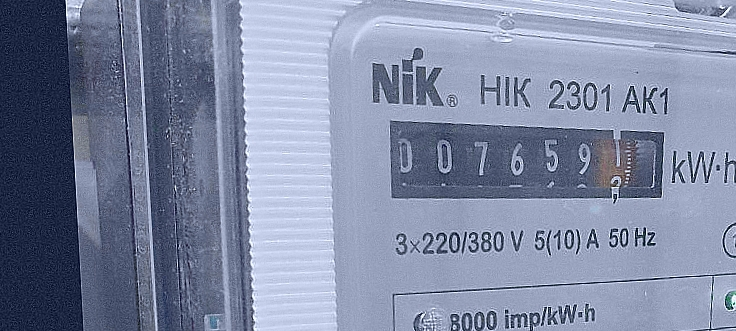0: (430, 134, 456, 176), (391, 133, 416, 175)
1: (608, 137, 626, 170)
5: (540, 135, 562, 174)
6: (505, 138, 528, 178)
7: (470, 137, 491, 178)
9: (574, 139, 593, 177)
screen: (377, 96, 676, 231)
